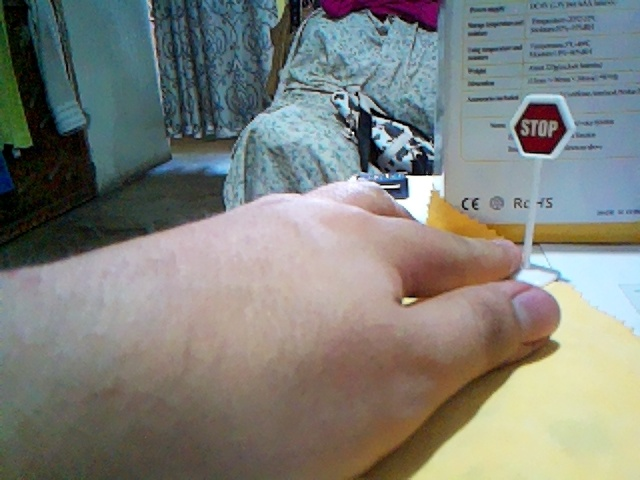stop_sign: (510, 95, 575, 157)
